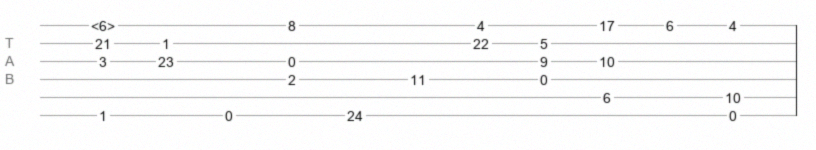0: (225, 108, 233, 118), (288, 54, 296, 64), (540, 72, 548, 82), (729, 108, 737, 118)
1: (99, 108, 107, 118), (162, 36, 170, 46)
10: (599, 54, 615, 64), (725, 90, 741, 100)
11: (410, 72, 426, 82)
17: (599, 18, 615, 28)
2: (288, 72, 296, 82)
21: (95, 36, 111, 46)
22: (473, 36, 489, 46)
23: (158, 54, 174, 64)
24: (347, 108, 363, 118)
3: (99, 54, 107, 64)
4: (477, 18, 485, 28), (729, 18, 737, 28)
5: (540, 36, 548, 46)
6: (603, 90, 611, 100), (666, 18, 674, 28)
8: (288, 18, 296, 28)
9: (540, 54, 548, 64)
harmonic: (91, 18, 115, 28)
